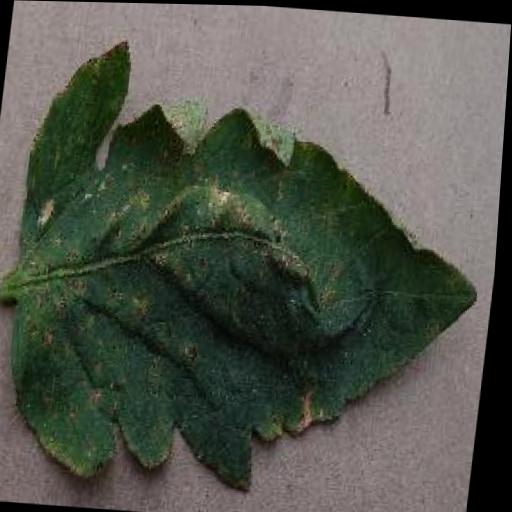Bacterial Spot: (0, 17, 511, 512)
